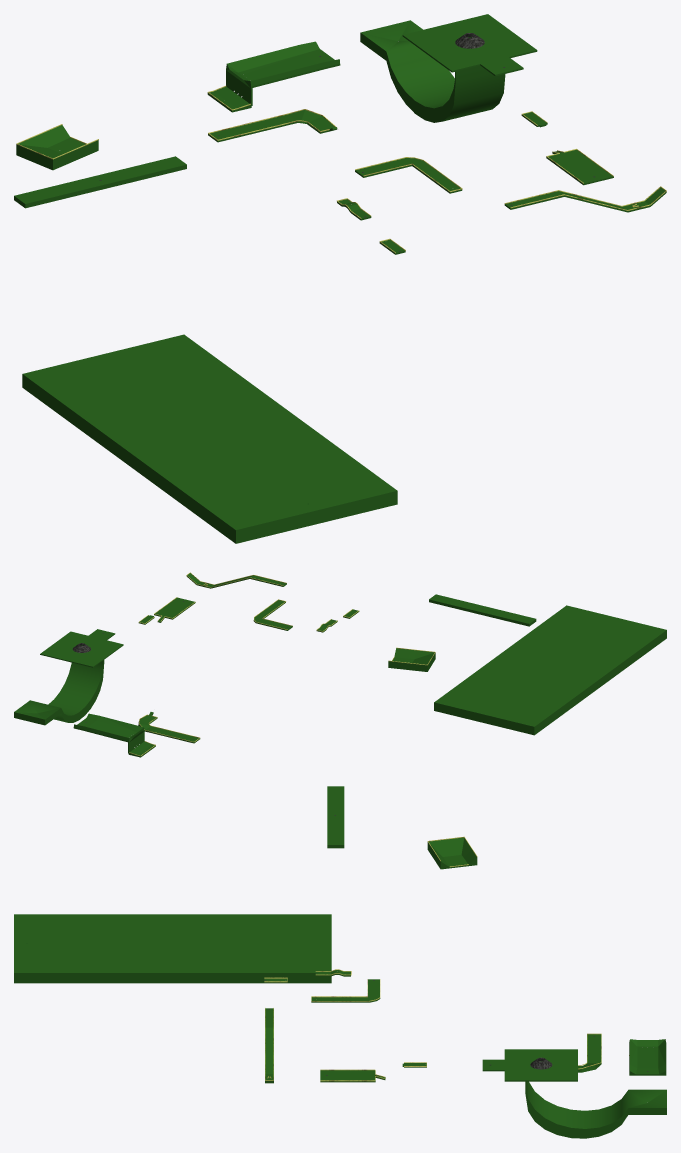
Rendered from course.glb.
The picture shows the model from 3 angles, top to bottom: view 1: azimuth 30°, elevation 25°; view 2: azimuth 150°, elevation 25°; view 3: azimuth 270°, elevation 25°; orthographic projection. The views are drawn at different scales.
Visible parts, largest first — view 1: Bottom Surface.002, Ramp, Surface.006, Top Surface, Top Surface.002, Top Surface.001, Bottom Surface.001, Surface.004, Surface.002, Surface.003, Bottom Surface; view 2: Bottom Surface.002, Ramp, Surface.006, Top Surface, Top Surface.002, Top Surface.001, Surface.004, Bottom Surface.001, Surface.002, Surface.003, Bottom Surface; view 3: Bottom Surface.002, Ramp, Surface.006, Top Surface, Top Surface.001, Top Surface.002, Surface.004, Surface.003, Surface.002, Bottom Surface.001.
Part boxes in pixels (x1,y1,x2,y2): Bottom Surface.002: [22, 334, 397, 543]; Ramp: [360, 20, 505, 122]; Surface.006: [402, 14, 537, 76]; Top Surface: [226, 41, 340, 88]; Top Surface.002: [14, 156, 186, 208]; Top Surface.001: [16, 125, 98, 170]; Bottom Surface.001: [208, 110, 337, 142]; Surface.004: [521, 112, 613, 185]; Surface.002: [355, 158, 462, 193]; Surface.003: [504, 187, 666, 212]; Bottom Surface: [207, 70, 252, 112]; Bottom Surface.002: [434, 605, 666, 735]; Ramp: [14, 660, 104, 725]; Surface.006: [40, 629, 123, 667]; Top Surface: [73, 713, 144, 742]; Top Surface.002: [429, 594, 536, 626]; Top Surface.001: [388, 648, 435, 671]; Surface.004: [139, 597, 195, 624]; Bottom Surface.001: [138, 712, 200, 743]; Surface.002: [253, 600, 292, 630]; Surface.003: [186, 573, 286, 588]; Bottom Surface: [128, 731, 155, 757]; Bottom Surface.002: [14, 914, 331, 983]; Ramp: [525, 1081, 666, 1138]; Surface.006: [482, 1049, 577, 1081]; Top Surface: [629, 1039, 666, 1075]; Top Surface.001: [427, 837, 477, 869]; Top Surface.002: [327, 786, 344, 848]; Surface.004: [320, 1063, 426, 1082]; Surface.003: [265, 1008, 273, 1083]; Surface.002: [311, 979, 380, 1002]; Bottom Surface.001: [578, 1034, 601, 1072].
Size of the model in its own units: 74.13 by 20.86 by 89.26.
17 materials, 8 textured.
